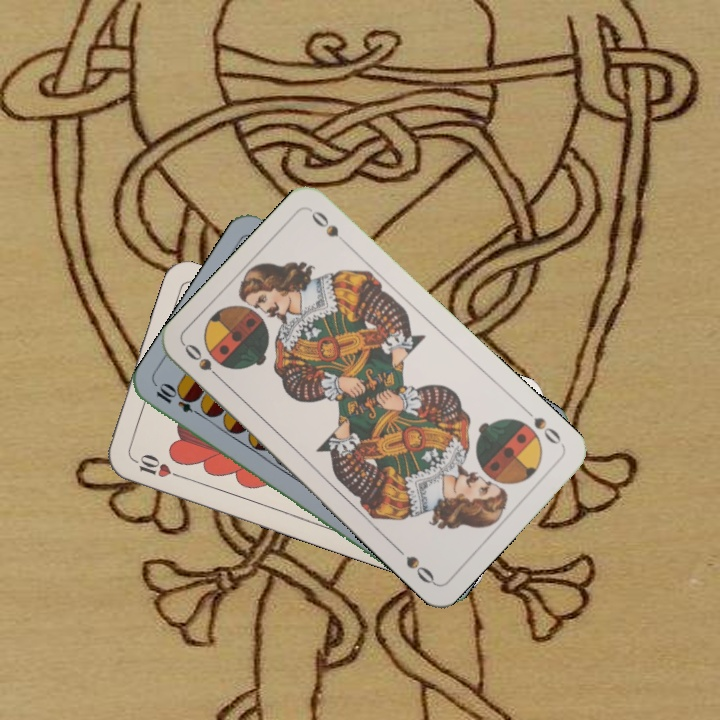E10: (151, 381, 207, 420)
H10: (127, 450, 184, 481)
SO: (180, 339, 228, 386), (520, 404, 567, 450)
